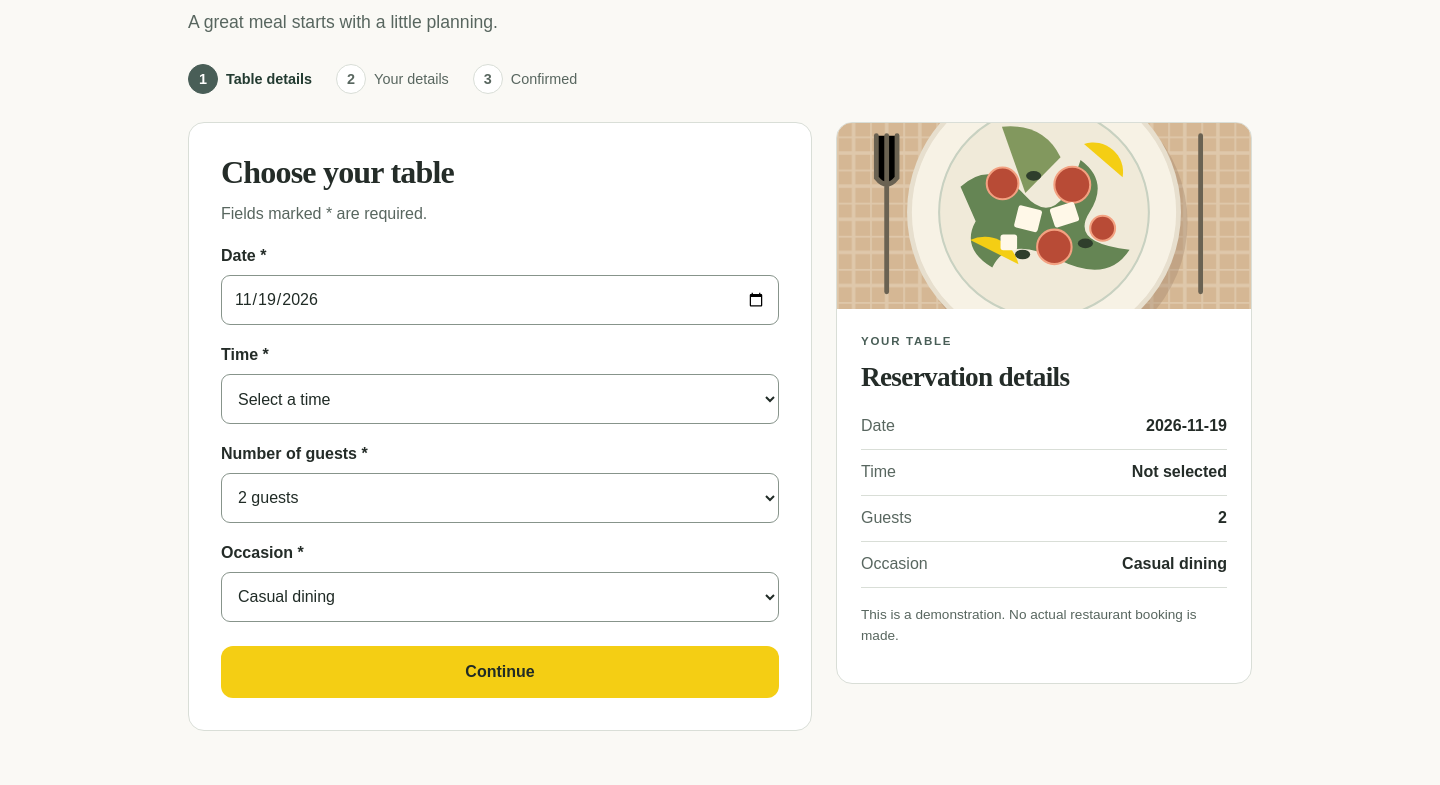
Test: renders a labeled date field and prevents proceeding without a time
(page scrolled)
Click the button "Continue".
click(500, 672)  # box [221, 646, 779, 698]
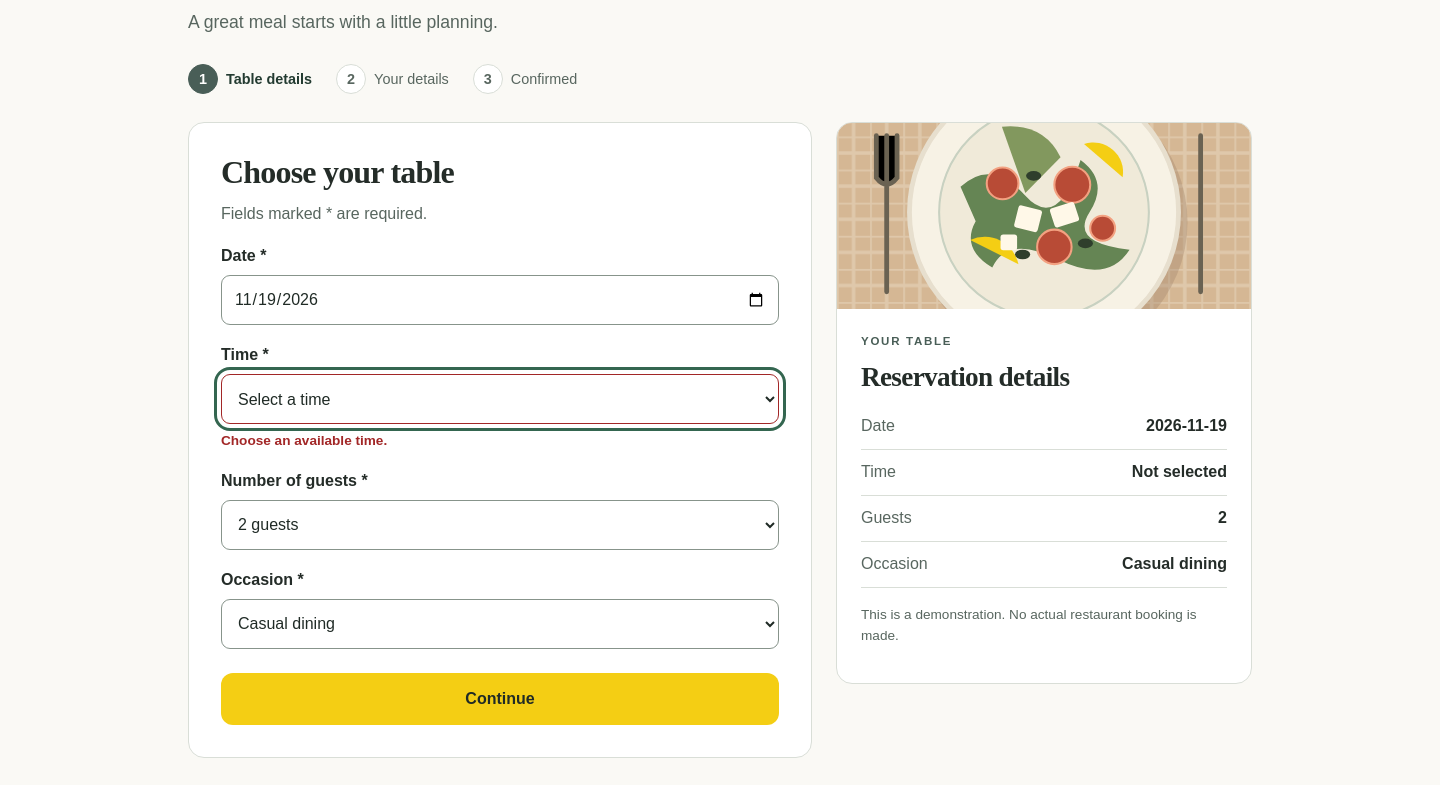
Expected: the text "Choose an available time." is shown, [221, 433, 387, 448]
